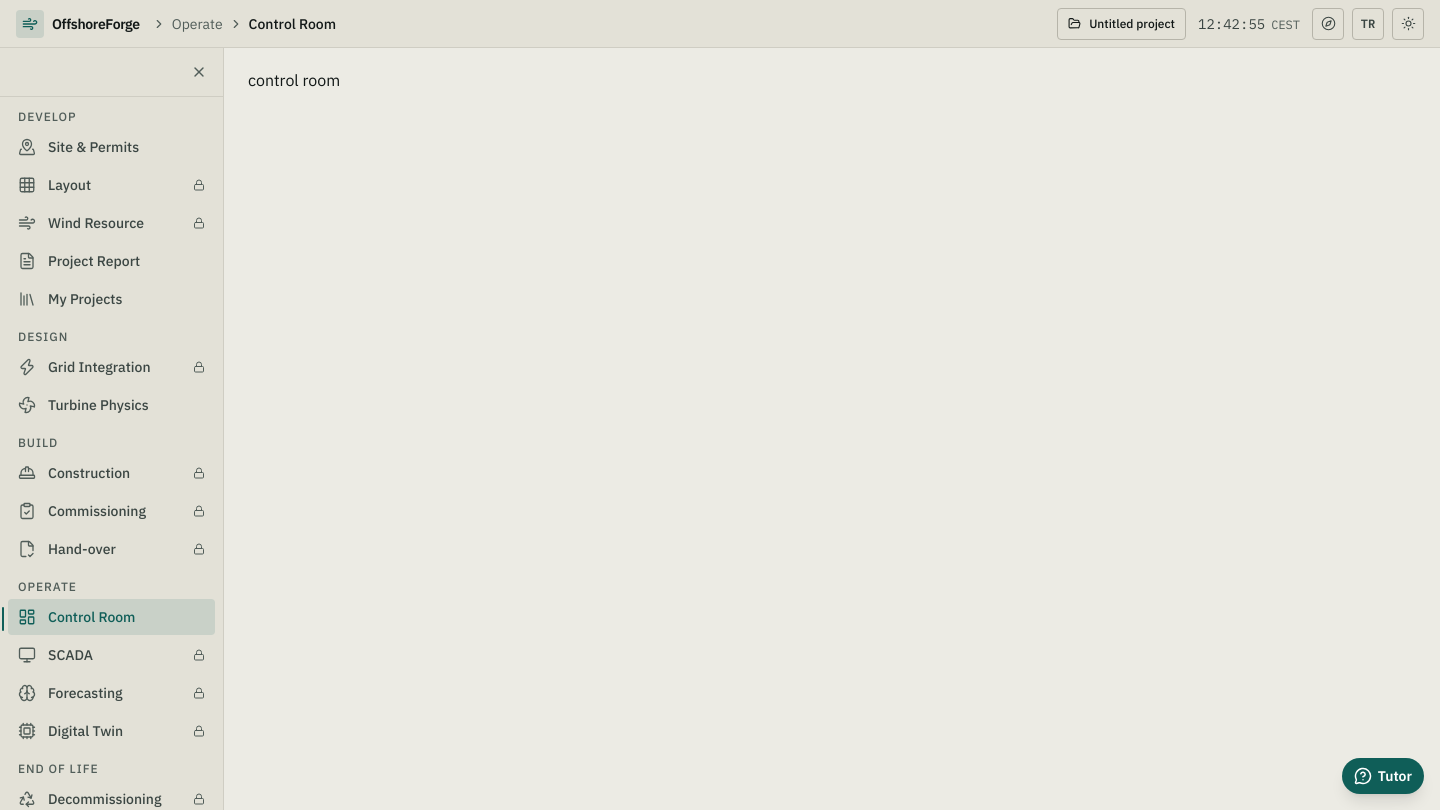
Test: project mode › starts an own project from SB-510: its site in PZP_44 and its layout, permit stages still to run
Click the button "Untitled project": (1122,24) [1057,8,1186,40]
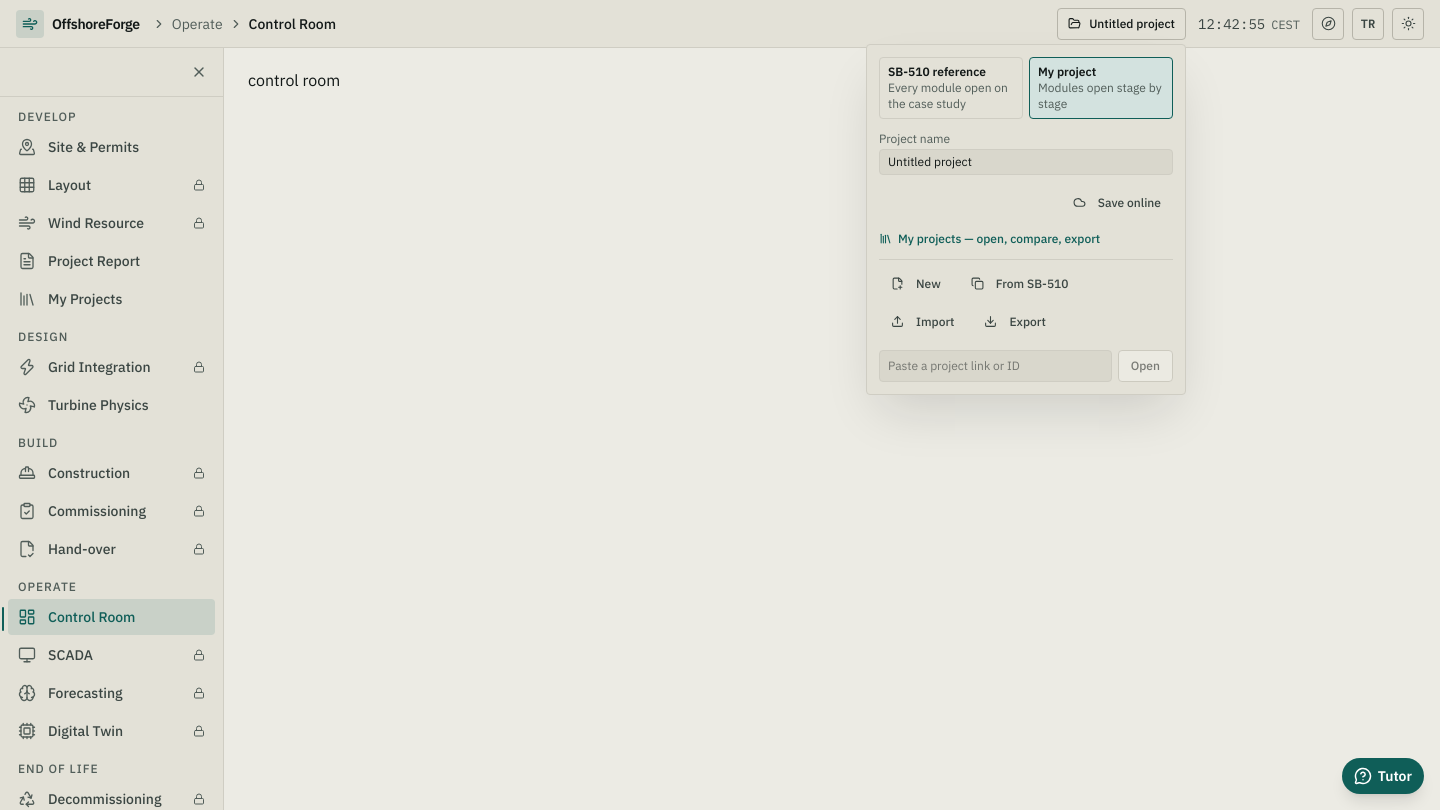
Click the button "From SB-510": (1020,284) [959,268,1081,300]
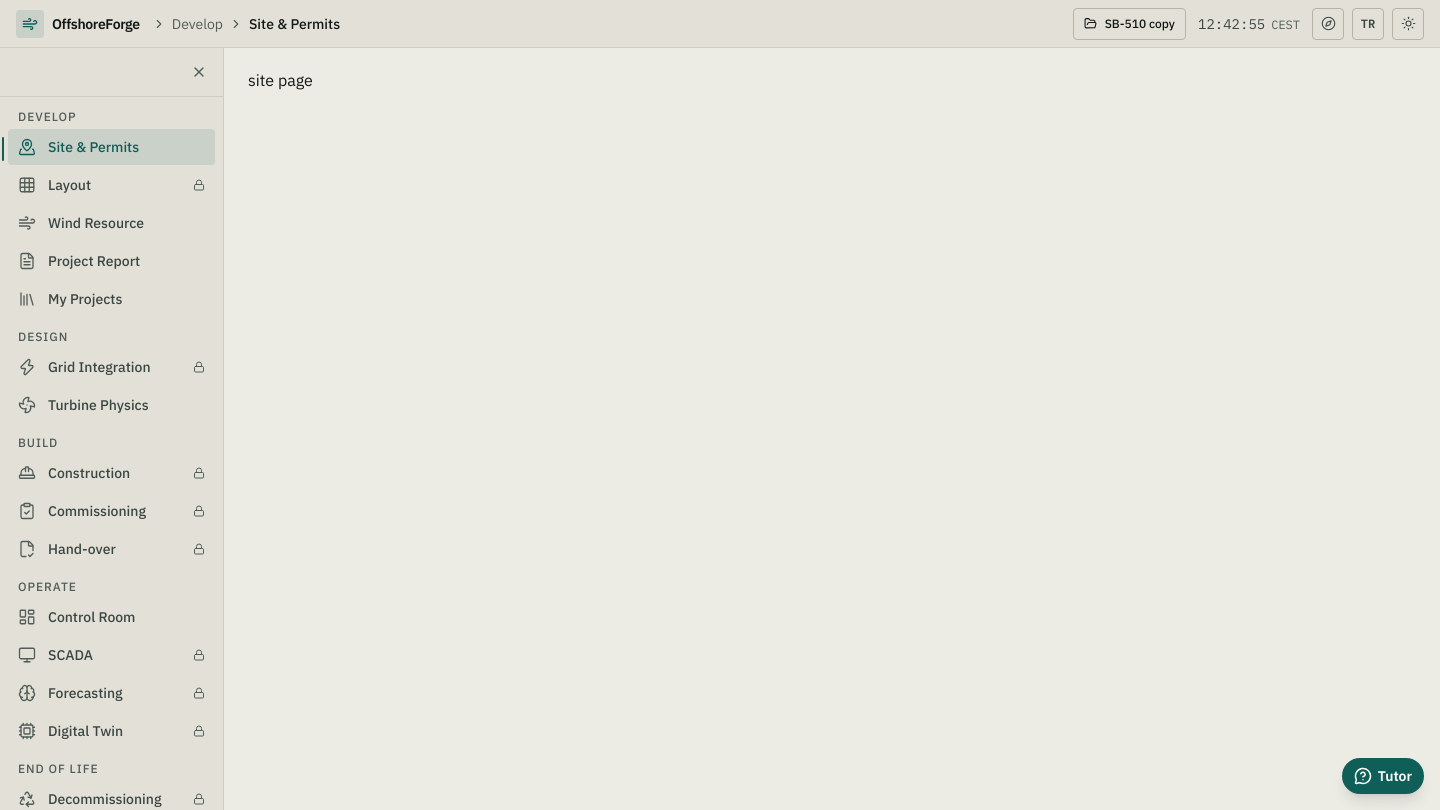
Check: the text "site page" is shown, box [248,70,313,90]
